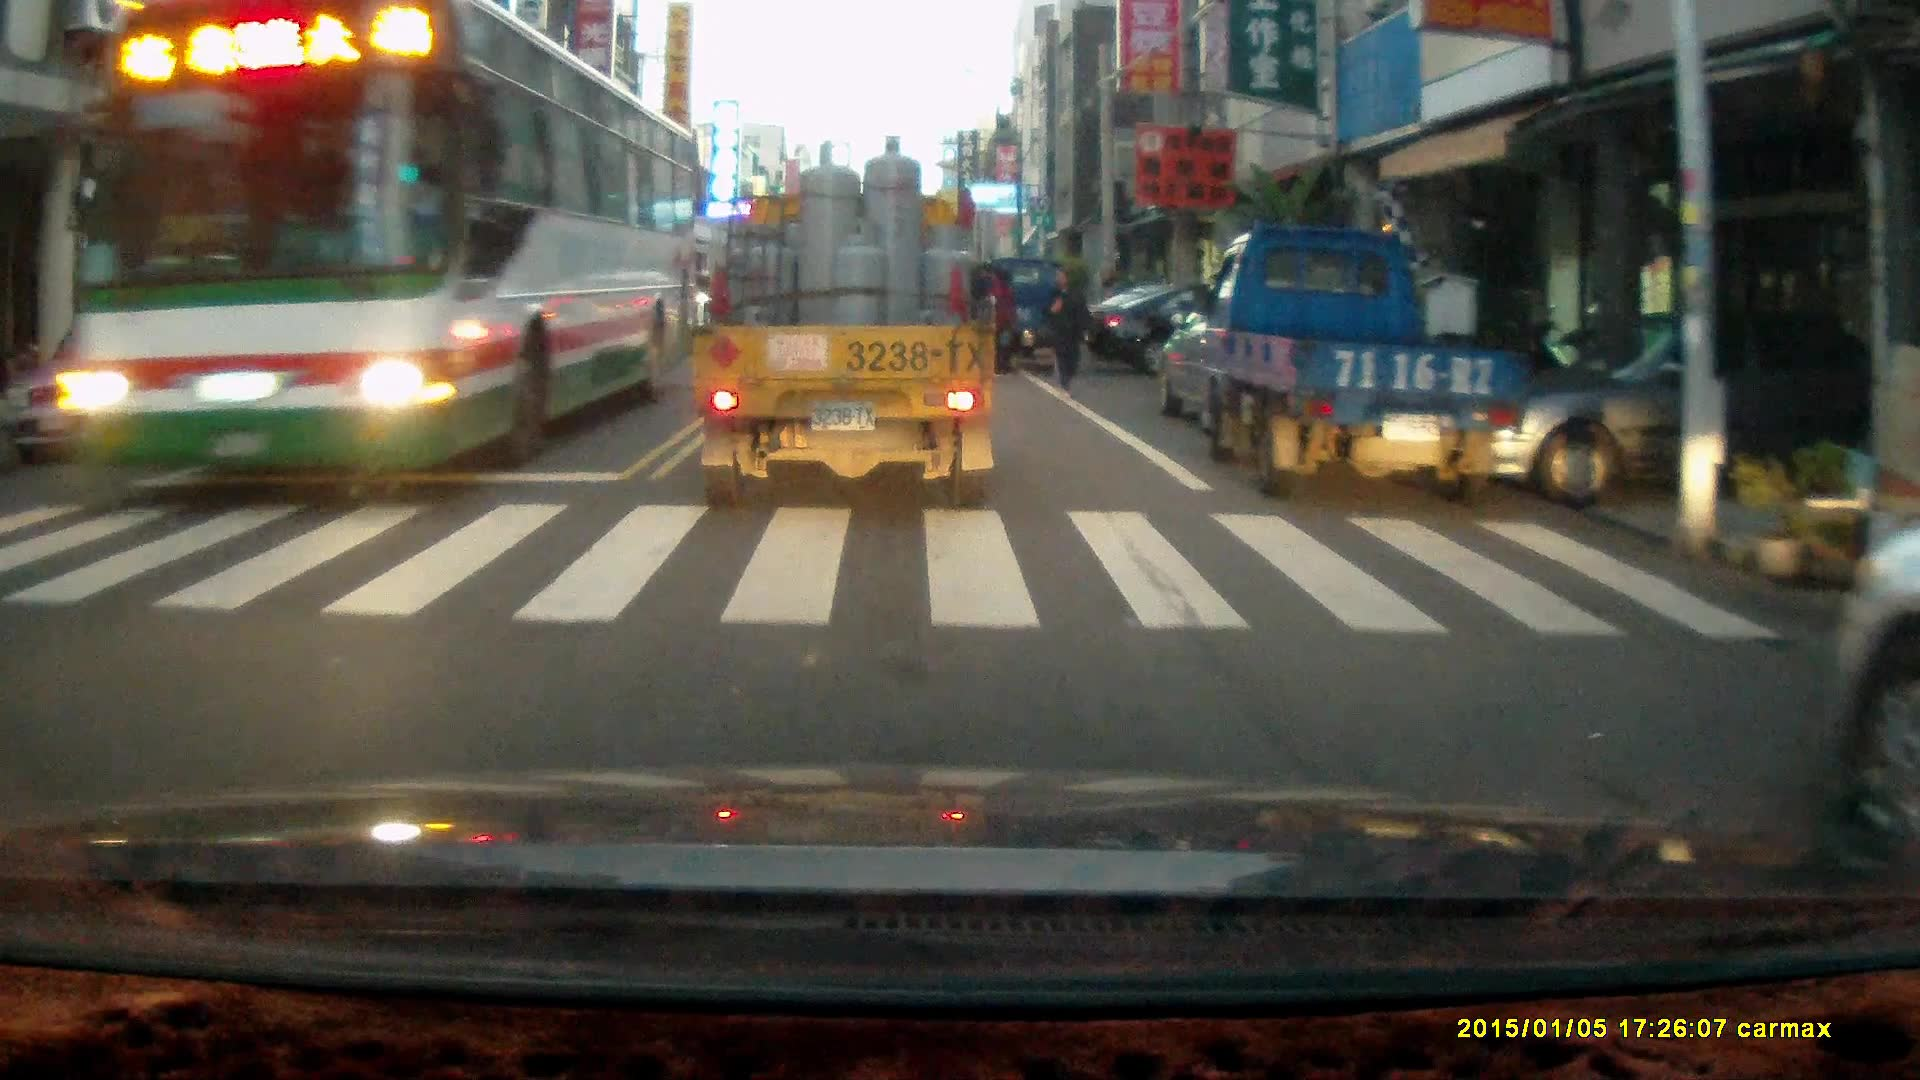pedestrian: (1039, 262, 1093, 392), (982, 262, 1016, 378)
vehicle: (62, 20, 682, 486), (687, 135, 1002, 515), (1181, 223, 1529, 503), (1495, 355, 1888, 496), (1, 290, 278, 476), (1818, 523, 1920, 880), (979, 260, 1092, 380)
